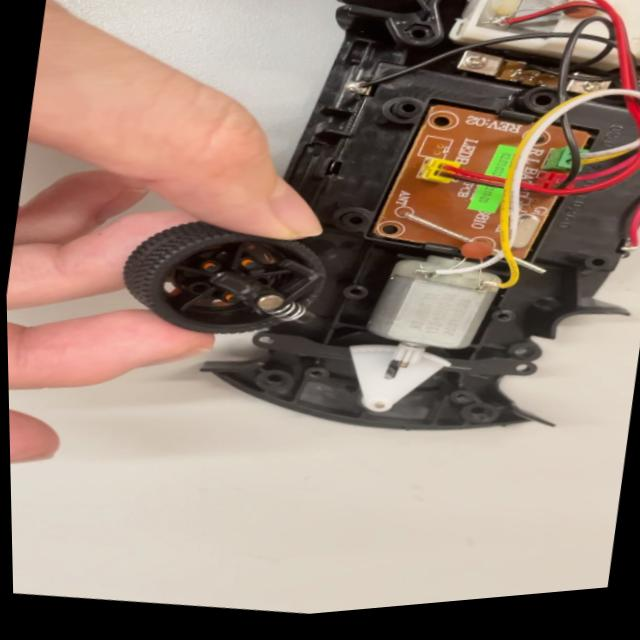motor: (349, 237, 506, 391)
wheel: (124, 205, 334, 357)
